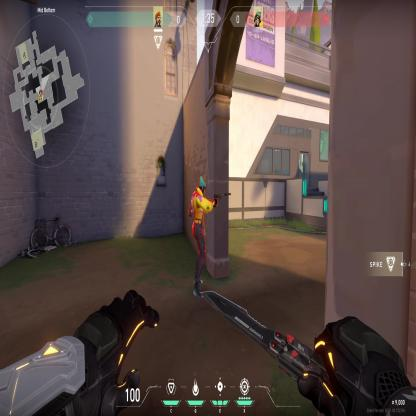enemy: (187, 174, 213, 300)
